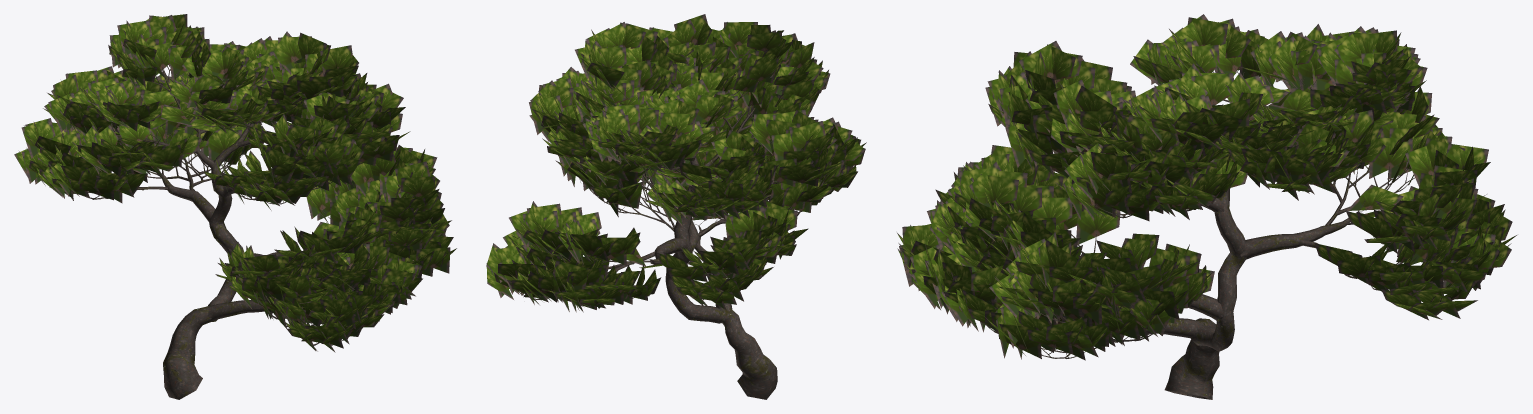
The model's file is KB3D_SHA_MatsuPine_B_grp.fbx.
3 views of the same model, side by side, from view 1: azimuth 30°, elevation 25°; view 2: azimuth 150°, elevation 25°; view 3: azimuth 270°, elevation 25° (orthographic). The views are drawn at different scales.
Visible parts, largest first — view 1: KB3D_SHA_MatsuPine_B_Main; view 2: KB3D_SHA_MatsuPine_B_Main; view 3: KB3D_SHA_MatsuPine_B_Main.
Part boxes in pixels (x1,y1,x2,y2): KB3D_SHA_MatsuPine_B_Main: [14, 14, 456, 399]; KB3D_SHA_MatsuPine_B_Main: [486, 14, 866, 399]; KB3D_SHA_MatsuPine_B_Main: [897, 14, 1516, 399].
Size of the model in its own units: 405 by 382 by 546.
